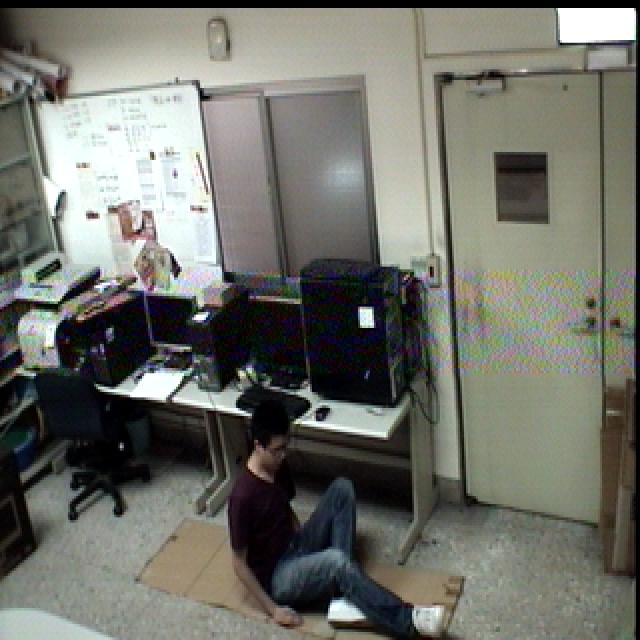sit: (224, 393, 454, 640)
